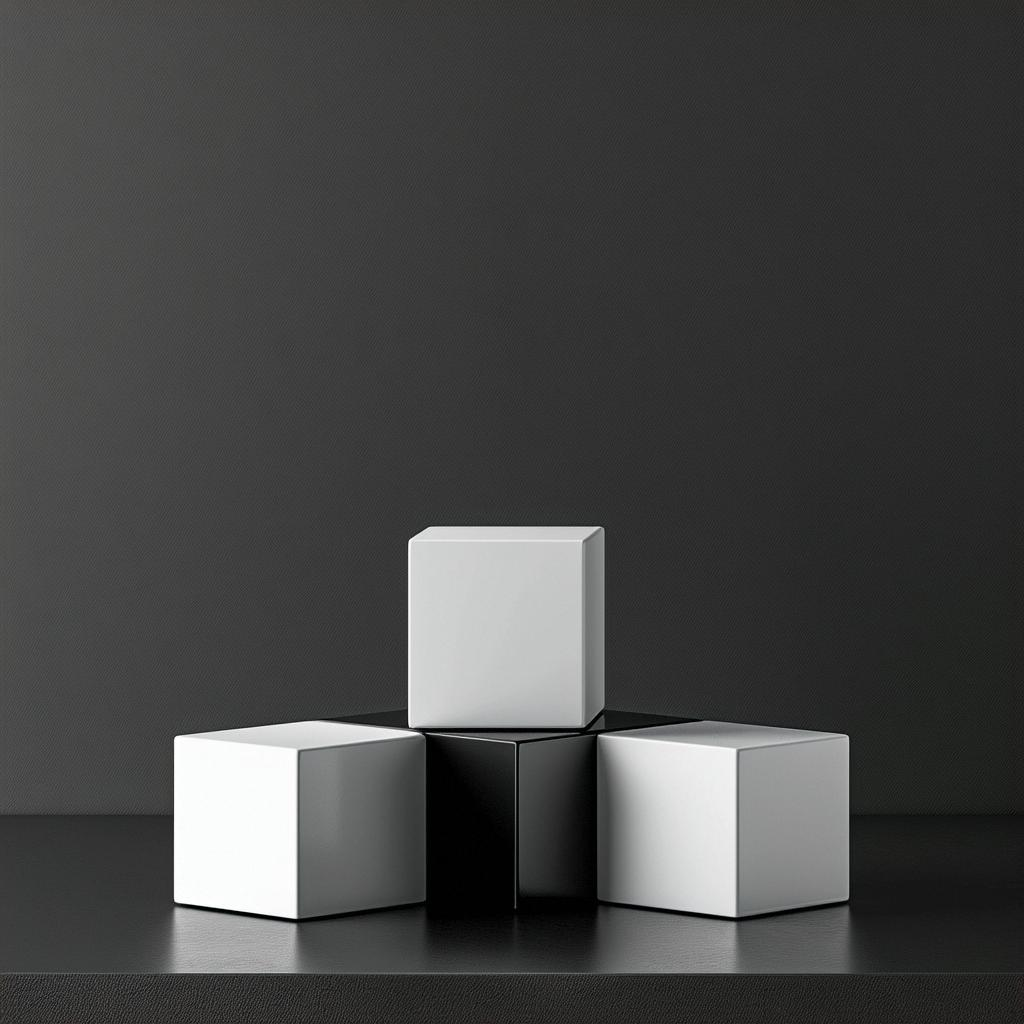cube: (171, 718, 426, 921), (595, 718, 850, 919), (406, 524, 605, 729)
